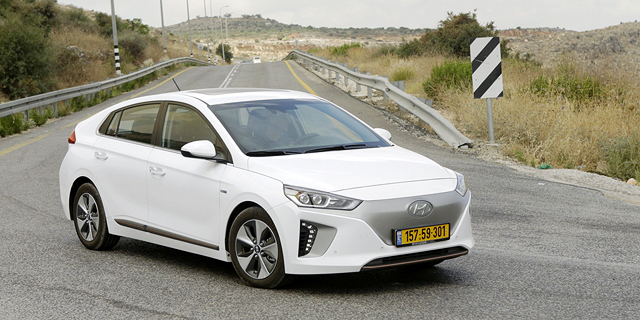licence: (393, 221, 451, 246)
